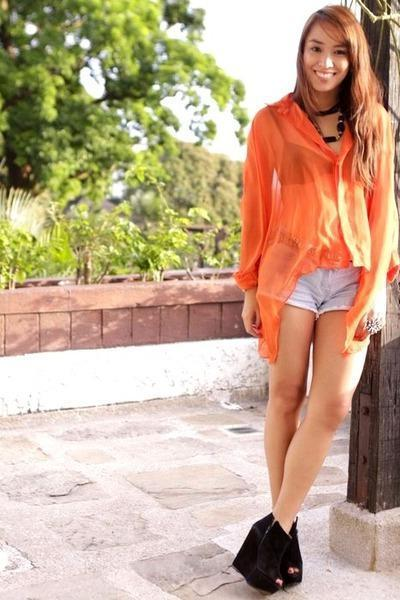Shorts: (251, 257, 386, 317)
long sleeve shirt: (232, 93, 394, 348)
